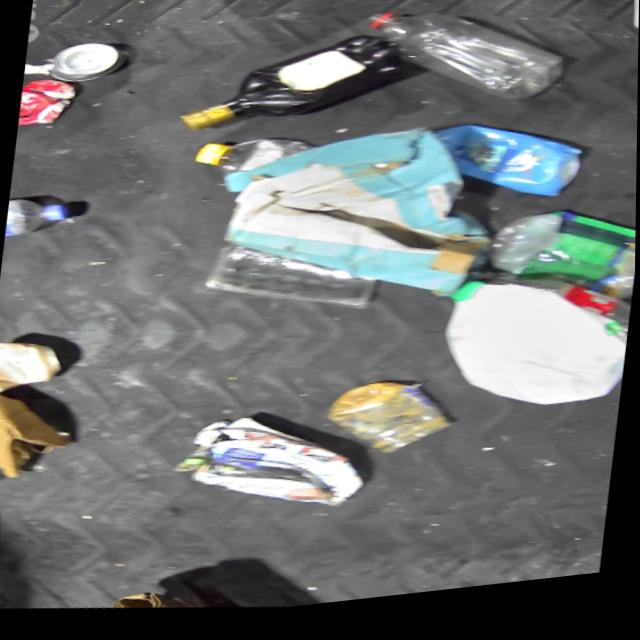can: (323, 380, 450, 473), (45, 39, 120, 90), (17, 73, 69, 131)
milk_jug: (434, 269, 635, 436)
plastic_bottle: (351, 3, 568, 129), (4, 193, 72, 247), (0, 388, 0, 490)
